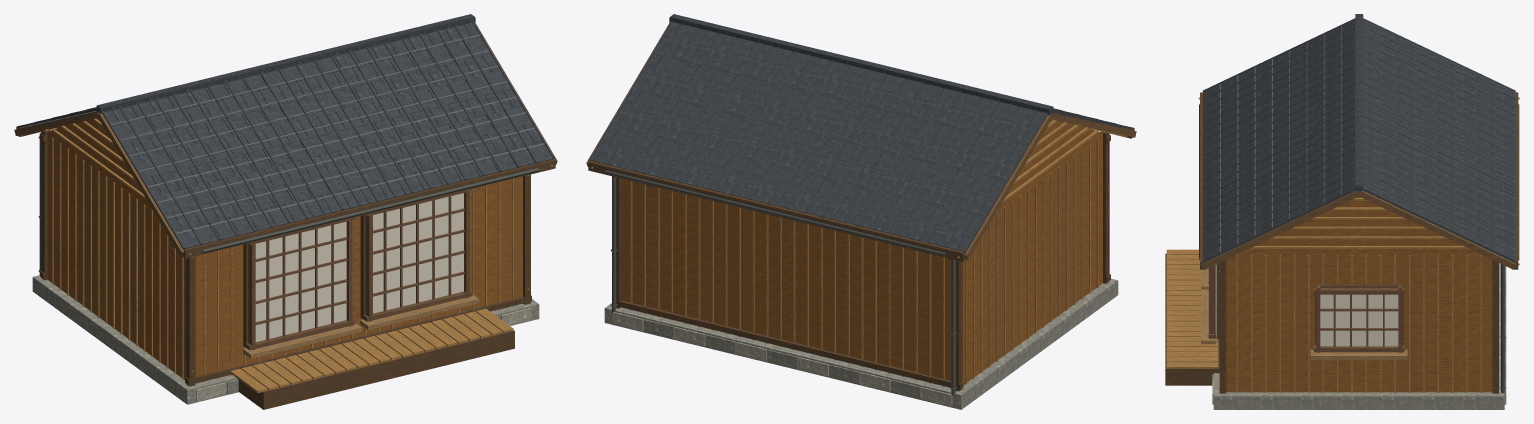
File: base_office-exterior-refined-v1.glb
3 renders of one model, left to right at view 1: azimuth 30°, elevation 25°; view 2: azimuth 150°, elevation 25°; view 3: azimuth 270°, elevation 25°, orthographic. The views are drawn at different scales.
Parts seen in each view (by area): view 1: base_office_10_独立错缝瓦片_EX_41464b_dark_rock_surface, base_office_01_原有建筑轮廓与构件_EX_97632e_fine_grained_wood_surface, base_office_01_原有建筑轮廓与构件_EX_ad8047_fine_grained_wood_surface, base_office_03_窗面与灯具_EX_e6deca_Paper001_window, base_office_01_原有建筑轮廓与构件_EX_62482f_fine_grained_wood_surface, base_office_01_原有建筑轮廓与构件_EX_424548_plain_surface, base_office_01_原有建筑轮廓与构件_EX_71533d_fine_grained_wood_surface, base_office_01_原有建筑轮廓与构件_EX_66676a_plain_surface, base_office_01_原有建筑轮廓与构件_EX_72523a_fine_grained_wood_surface, base_office_01_原有建筑轮廓与构件_EX_939184_dark_rock_surface, base_office_01_原有建筑轮廓与构件_EX_41464b_dark_rock_surface, base_office_01_原有建筑轮廓与构件_EX_a07d51_fine_grained_wood_surface (+5 smaller); view 2: base_office_01_原有建筑轮廓与构件_EX_97632e_fine_grained_wood_surface, base_office_10_独立错缝瓦片_EX_41464b_dark_rock_surface, base_office_01_原有建筑轮廓与构件_EX_ad8047_fine_grained_wood_surface, base_office_01_原有建筑轮廓与构件_EX_424548_plain_surface, base_office_01_原有建筑轮廓与构件_EX_939184_dark_rock_surface, base_office_01_原有建筑轮廓与构件_EX_62482f_fine_grained_wood_surface, base_office_01_原有建筑轮廓与构件_EX_41464b_dark_rock_surface, base_office_01_原有建筑轮廓与构件_EX_565952_plain_surface, base_office_01_原有建筑轮廓与构件_EX_aaa594_dark_rock_surface, base_office_01_原有建筑轮廓与构件_EX_8b8a7c_dark_rock_surface, base_office_01_原有建筑轮廓与构件_EX_604a35_fine_grained_wood_surface, base_office_01_原有建筑轮廓与构件_EX_775838_fine_grained_wood_surface (+1 smaller); view 3: base_office_10_独立错缝瓦片_EX_41464b_dark_rock_surface, base_office_01_原有建筑轮廓与构件_EX_97632e_fine_grained_wood_surface, base_office_01_原有建筑轮廓与构件_EX_424548_plain_surface, base_office_01_原有建筑轮廓与构件_EX_ad8047_fine_grained_wood_surface, base_office_01_原有建筑轮廓与构件_EX_939184_dark_rock_surface, base_office_01_原有建筑轮廓与构件_EX_62482f_fine_grained_wood_surface, base_office_03_窗面与灯具_EX_e6deca_Paper001_window, base_office_01_原有建筑轮廓与构件_EX_775838_fine_grained_wood_surface, base_office_01_原有建筑轮廓与构件_EX_72523a_fine_grained_wood_surface, base_office_01_原有建筑轮廓与构件_EX_66676a_plain_surface, base_office_01_原有建筑轮廓与构件_EX_41464b_dark_rock_surface, base_office_01_原有建筑轮廓与构件_EX_a07d51_fine_grained_wood_surface (+4 smaller).
Boxes of the visible parts, <box> form: base_office_10_独立错缝瓦片_EX_41464b_dark_rock_surface: <box>32,23,553,248</box>; base_office_01_原有建筑轮廓与构件_EX_97632e_fine_grained_wood_surface: <box>47,118,522,379</box>; base_office_01_原有建筑轮廓与构件_EX_ad8047_fine_grained_wood_surface: <box>51,118,513,393</box>; base_office_03_窗面与灯具_EX_e6deca_Paper001_window: <box>255,193,463,341</box>; base_office_01_原有建筑轮廓与构件_EX_62482f_fine_grained_wood_surface: <box>16,126,555,409</box>; base_office_01_原有建筑轮廓与构件_EX_424548_plain_surface: <box>17,21,554,249</box>; base_office_01_原有建筑轮廓与构件_EX_71533d_fine_grained_wood_surface: <box>255,196,464,340</box>; base_office_01_原有建筑轮廓与构件_EX_66676a_plain_surface: <box>26,34,544,233</box>; base_office_01_原有建筑轮廓与构件_EX_72523a_fine_grained_wood_surface: <box>245,188,472,350</box>; base_office_01_原有建筑轮廓与构件_EX_939184_dark_rock_surface: <box>32,275,539,404</box>; base_office_01_原有建筑轮廓与构件_EX_41464b_dark_rock_surface: <box>96,14,475,113</box>; base_office_01_原有建筑轮廓与构件_EX_a07d51_fine_grained_wood_surface: <box>243,294,479,358</box>; base_office_01_原有建筑轮廓与构件_EX_97632e_fine_grained_wood_surface: <box>621,119,1102,384</box>; base_office_10_独立错缝瓦片_EX_41464b_dark_rock_surface: <box>590,22,1128,251</box>; base_office_01_原有建筑轮廓与构件_EX_ad8047_fine_grained_wood_surface: <box>630,120,1098,386</box>; base_office_01_原有建筑轮廓与构件_EX_424548_plain_surface: <box>589,21,1133,252</box>; base_office_01_原有建筑轮廓与构件_EX_939184_dark_rock_surface: <box>604,278,1118,409</box>; base_office_01_原有建筑轮廓与构件_EX_62482f_fine_grained_wood_surface: <box>588,111,1134,391</box>; base_office_01_原有建筑轮廓与构件_EX_41464b_dark_rock_surface: <box>669,14,1053,115</box>; base_office_01_原有建筑轮廓与构件_EX_565952_plain_surface: <box>605,170,955,396</box>; base_office_01_原有建筑轮廓与构件_EX_aaa594_dark_rock_surface: <box>613,312,952,406</box>; base_office_01_原有建筑轮廓与构件_EX_8b8a7c_dark_rock_surface: <box>643,319,921,399</box>; base_office_01_原有建筑轮廓与构件_EX_604a35_fine_grained_wood_surface: <box>588,136,1132,261</box>; base_office_01_原有建筑轮廓与构件_EX_775838_fine_grained_wood_surface: <box>586,22,1136,259</box>; base_office_10_独立错缝瓦片_EX_41464b_dark_rock_surface: <box>1203,19,1515,259</box>; base_office_01_原有建筑轮廓与构件_EX_97632e_fine_grained_wood_surface: <box>1226,196,1492,392</box>; base_office_01_原有建筑轮廓与构件_EX_424548_plain_surface: <box>1202,18,1515,262</box>; base_office_01_原有建筑轮廓与构件_EX_ad8047_fine_grained_wood_surface: <box>1166,198,1481,392</box>; base_office_01_原有建筑轮廓与构件_EX_939184_dark_rock_surface: <box>1213,263,1504,409</box>; base_office_01_原有建筑轮廓与构件_EX_62482f_fine_grained_wood_surface: <box>1165,92,1517,393</box>; base_office_03_窗面与灯具_EX_e6deca_Paper001_window: <box>1215,264,1398,346</box>; base_office_01_原有建筑轮廓与构件_EX_775838_fine_grained_wood_surface: <box>1201,191,1516,269</box>; base_office_01_原有建筑轮廓与构件_EX_72523a_fine_grained_wood_surface: <box>1208,265,1404,352</box>; base_office_01_原有建筑轮廓与构件_EX_66676a_plain_surface: <box>1219,26,1498,254</box>; base_office_01_原有建筑轮廓与构件_EX_41464b_dark_rock_surface: <box>1355,14,1363,190</box>; base_office_01_原有建筑轮廓与构件_EX_a07d51_fine_grained_wood_surface: <box>1201,268,1407,359</box>.
Bounding box in the file's own units: 13.45 × 8.35 × 11.69.
Materials: 19 (14 with a texture image).
